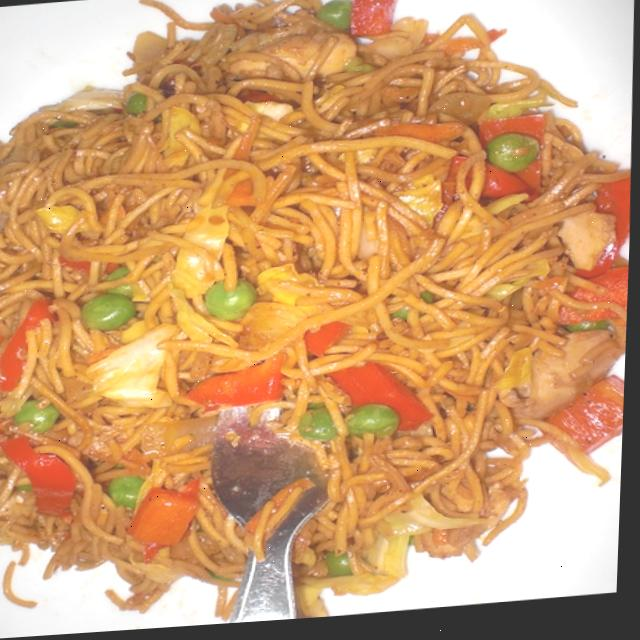面条主食: (0, 0, 633, 617)
